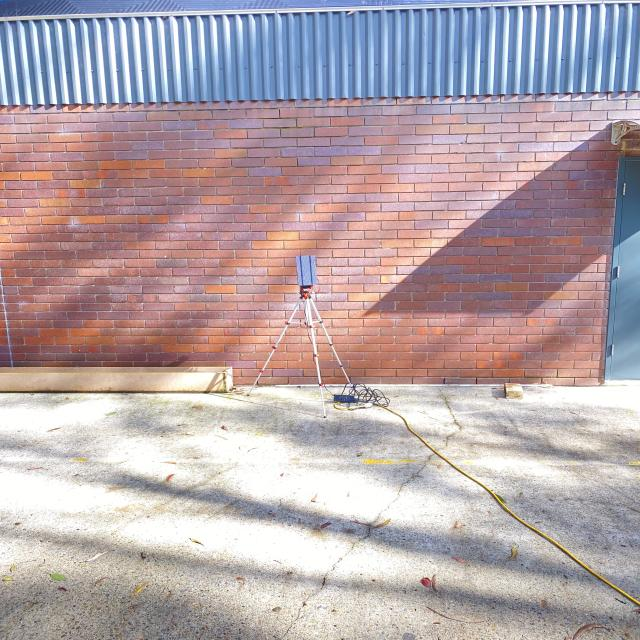matrix: (286, 255, 325, 288)
